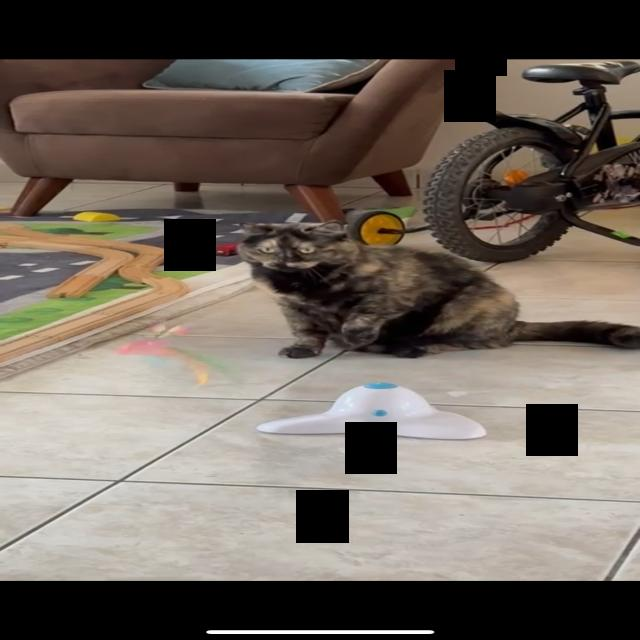authorized: (234, 220, 639, 359)
